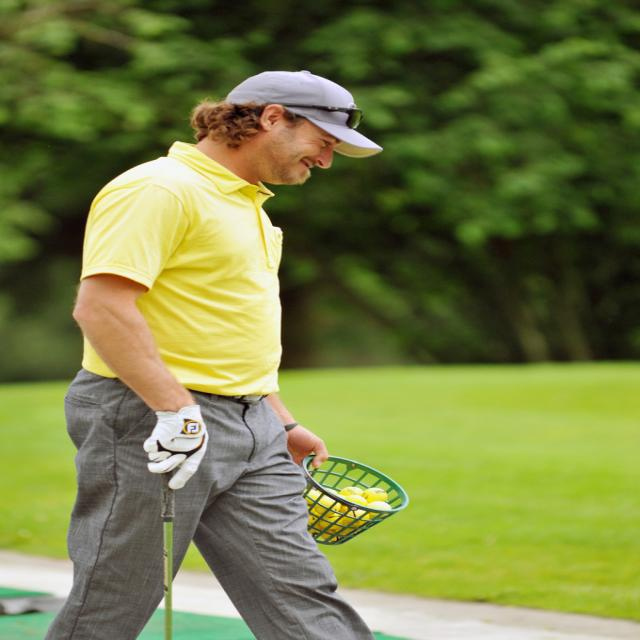Tennis ball: (303, 485, 397, 539)
